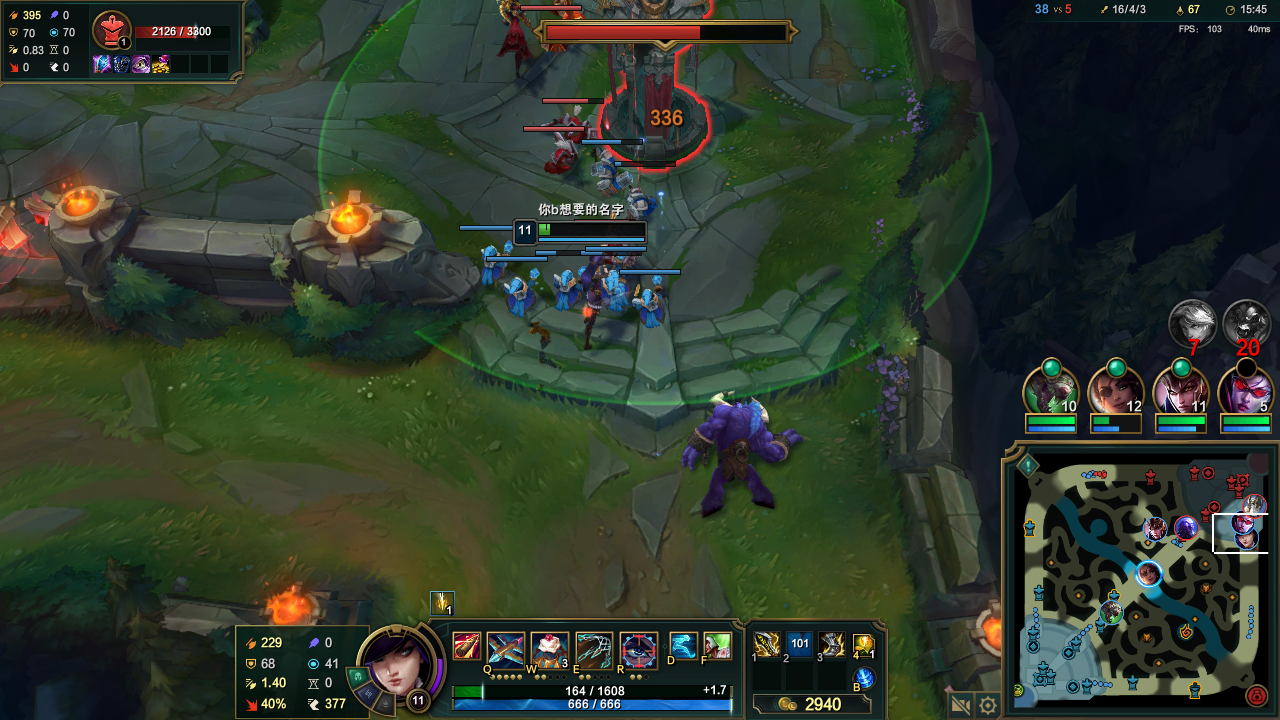DFFYT: (540, 25, 731, 166)
DFXB: (535, 145, 574, 173), (554, 114, 592, 137)
WFXB: (585, 154, 627, 190), (509, 272, 540, 307), (629, 185, 657, 223), (483, 244, 511, 277), (632, 294, 662, 322), (555, 271, 576, 303)
